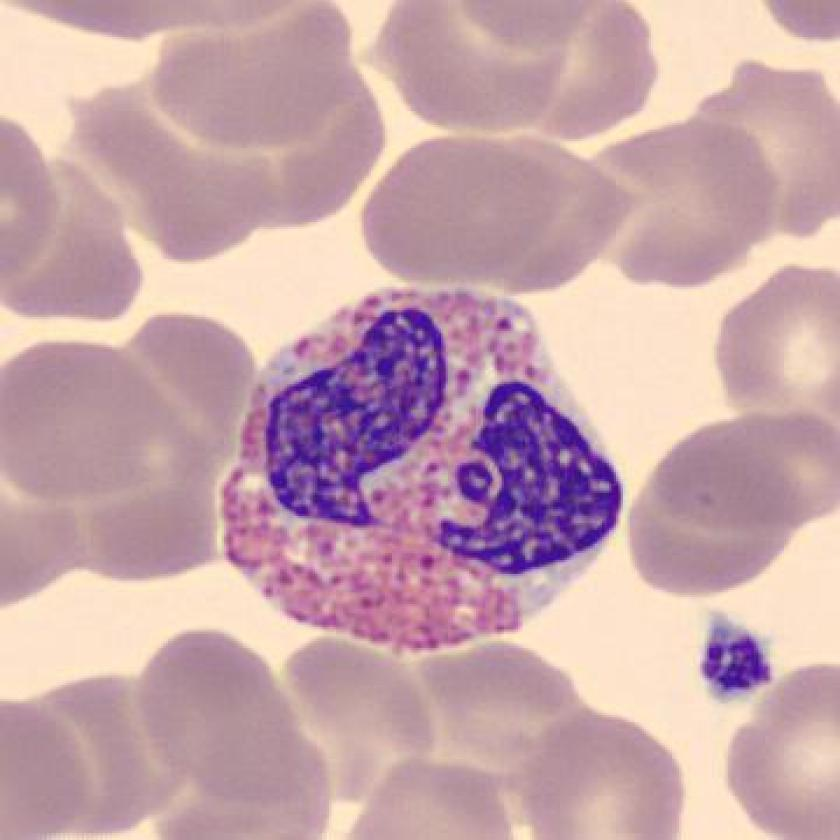eosinophil: (209, 270, 636, 668)
